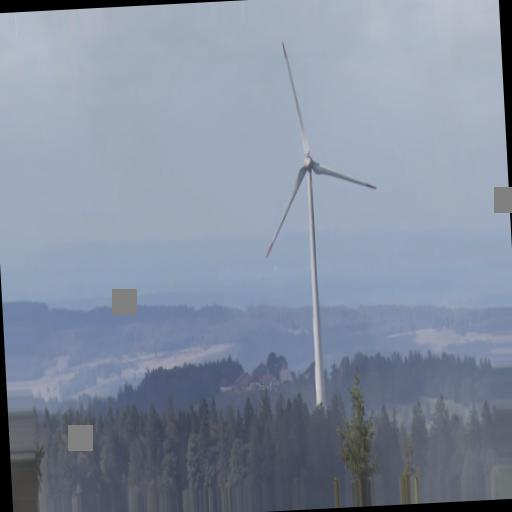wind turbine: (264, 43, 383, 405)
